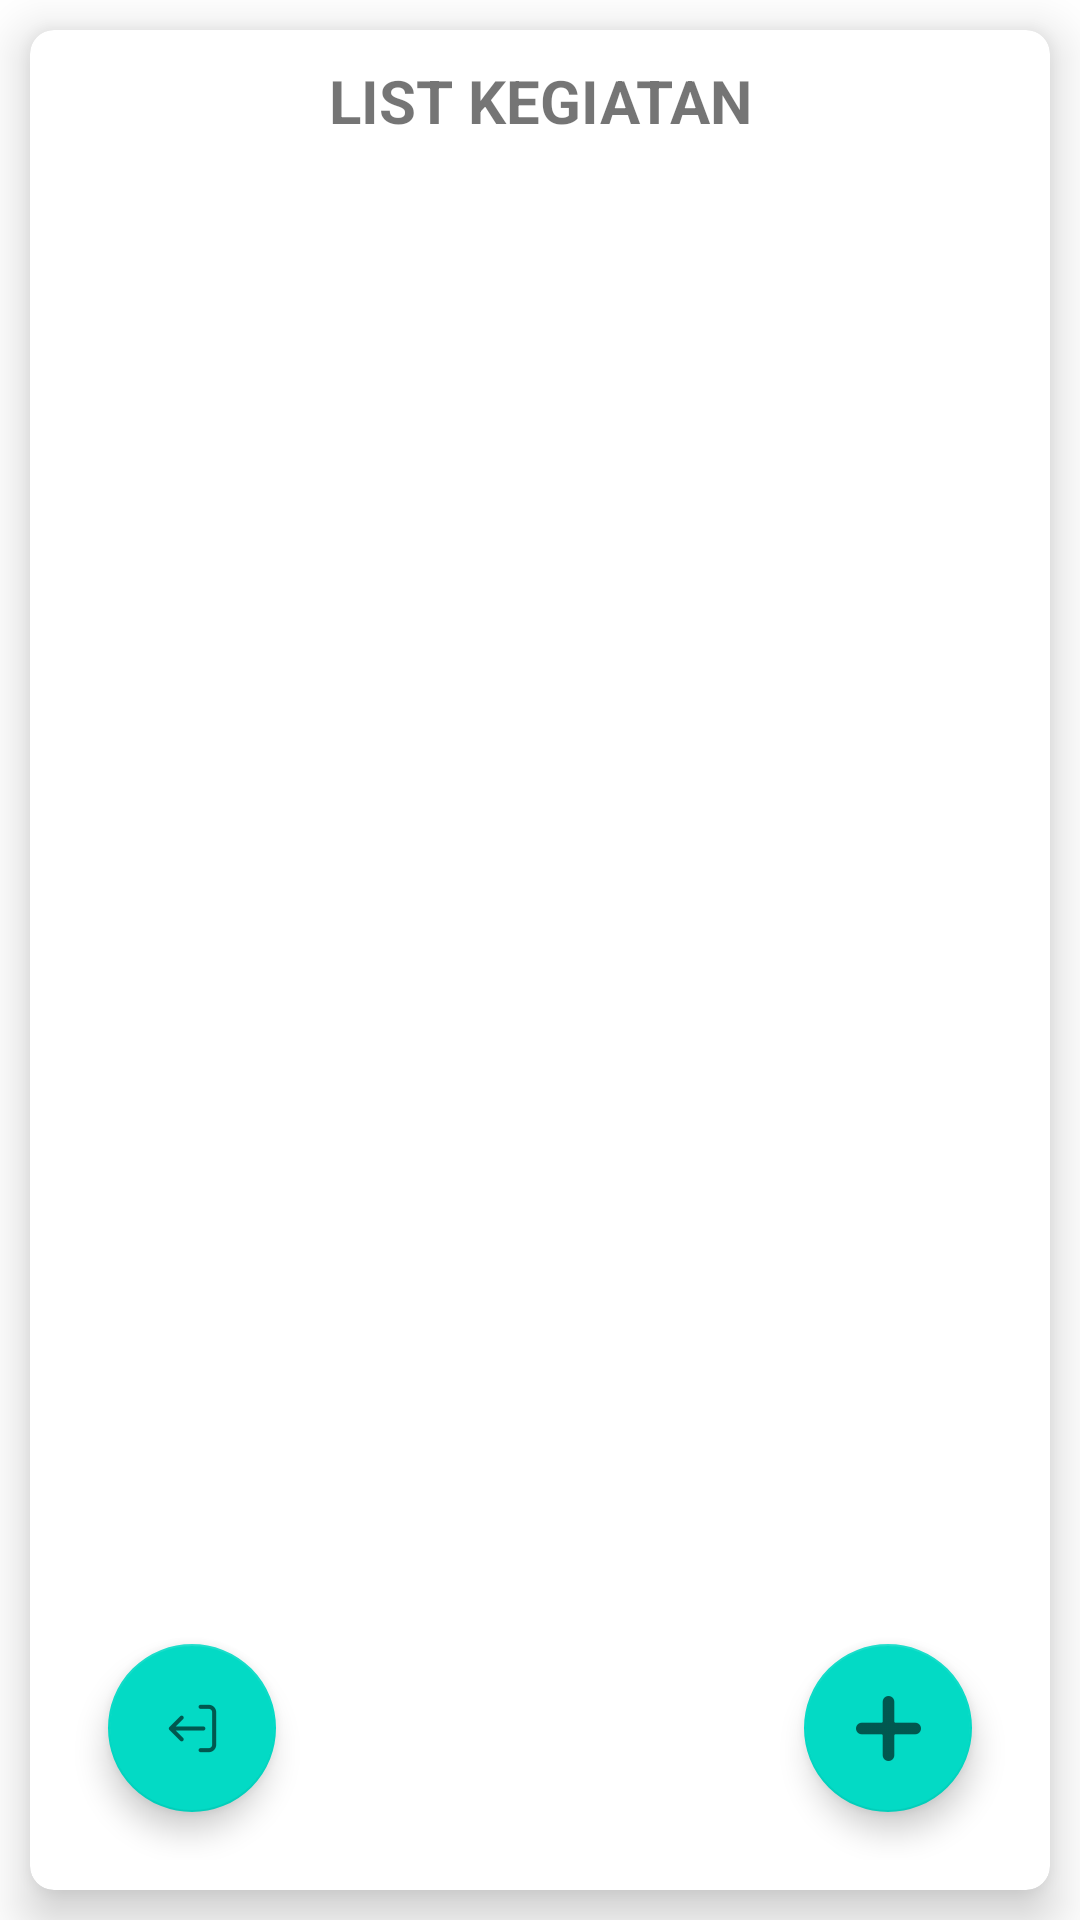

Named icons in this screenshot (1080*1920) and their centers, point (x, y):
add: point (888, 1728)
